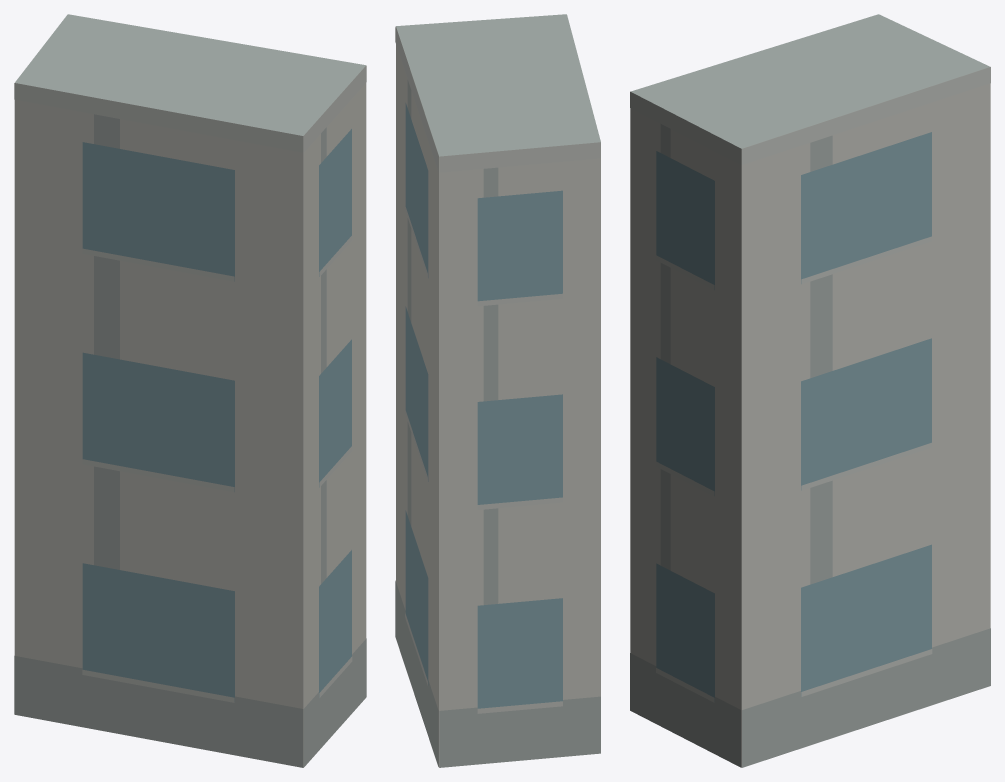
Rendered from survey-upis-32528206.glb.
3 views of the same model, side by side, from view 1: azimuth 30°, elevation 25°; view 2: azimuth 150°, elevation 25°; view 3: azimuth 270°, elevation 25° (orthographic). The views are drawn at different scales.
Parts seen in each view (by area): view 1: survey-upis-32528206.tmp; view 2: survey-upis-32528206.tmp; view 3: survey-upis-32528206.tmp.
Part boxes in pixels (x1,y1,x2,y2): survey-upis-32528206.tmp: (14, 14, 366, 767); survey-upis-32528206.tmp: (395, 14, 600, 767); survey-upis-32528206.tmp: (630, 14, 990, 767).
Size of the model in its own units: 4.28 by 9.15 by 4.84.
